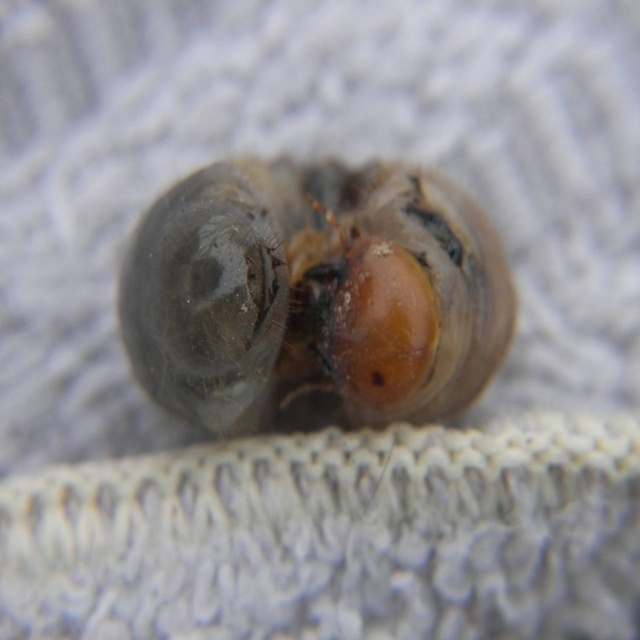Snail: (116, 151, 521, 439)
